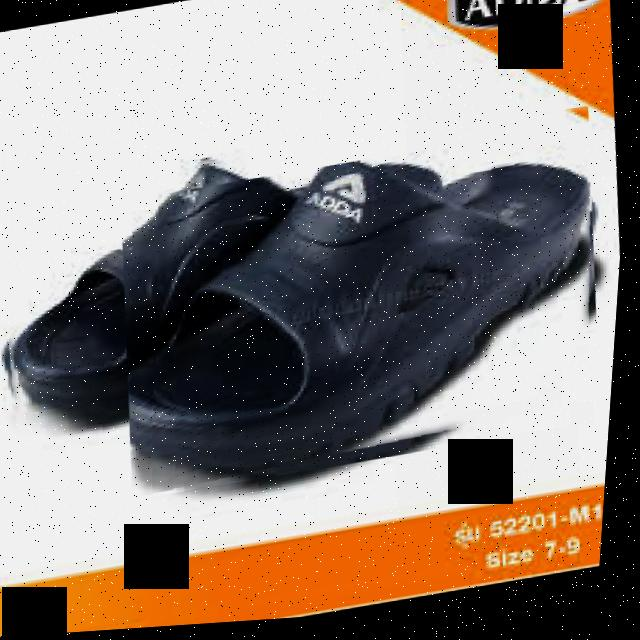shoe: (0, 95, 623, 524), (108, 127, 626, 502)
